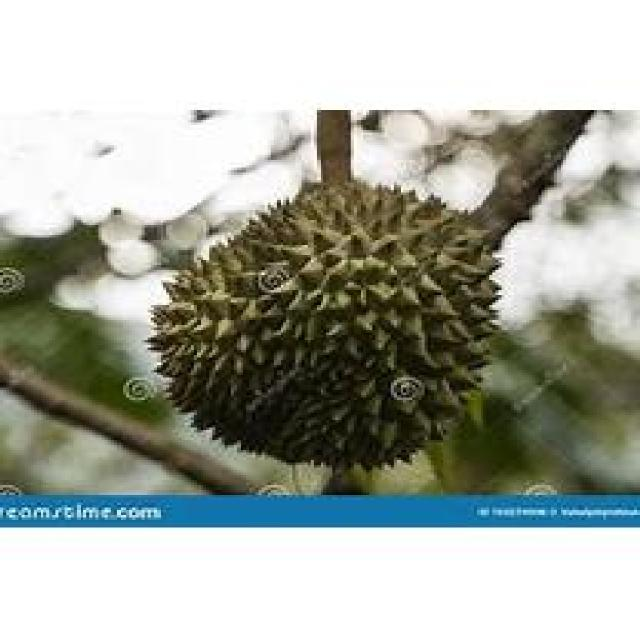non_orange: (139, 155, 523, 480)
